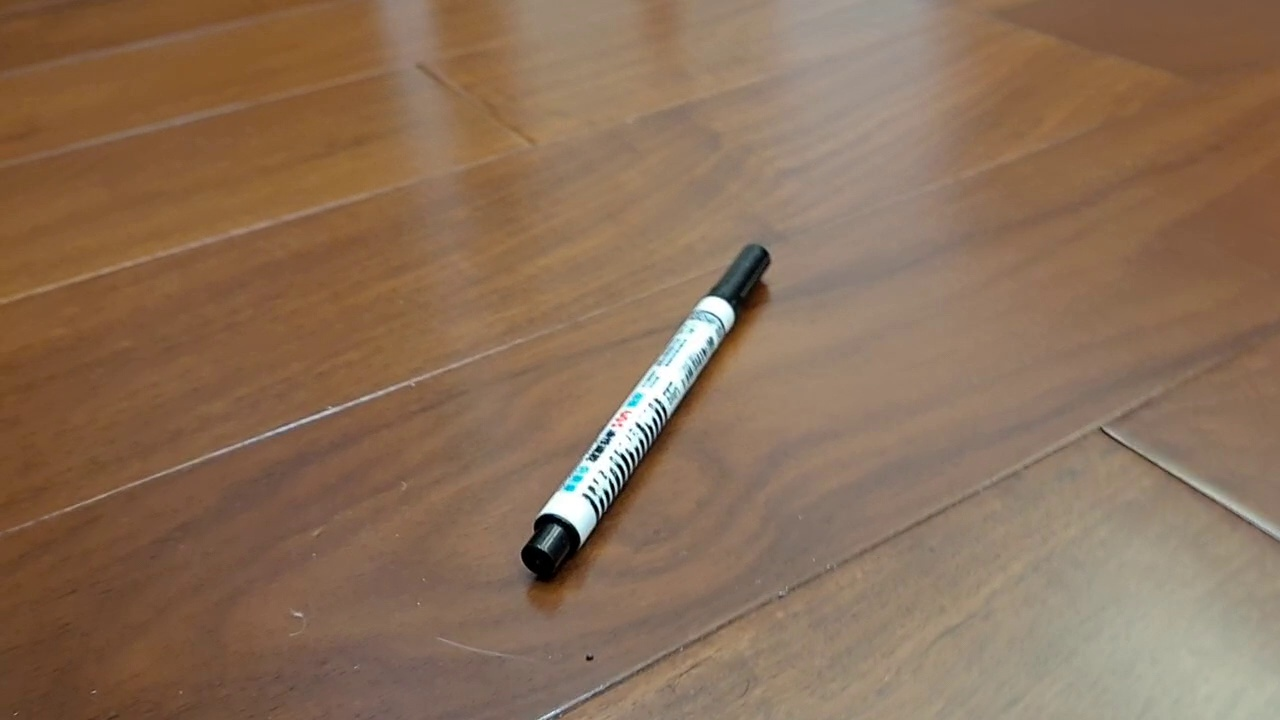pen: (519, 243, 772, 583)
